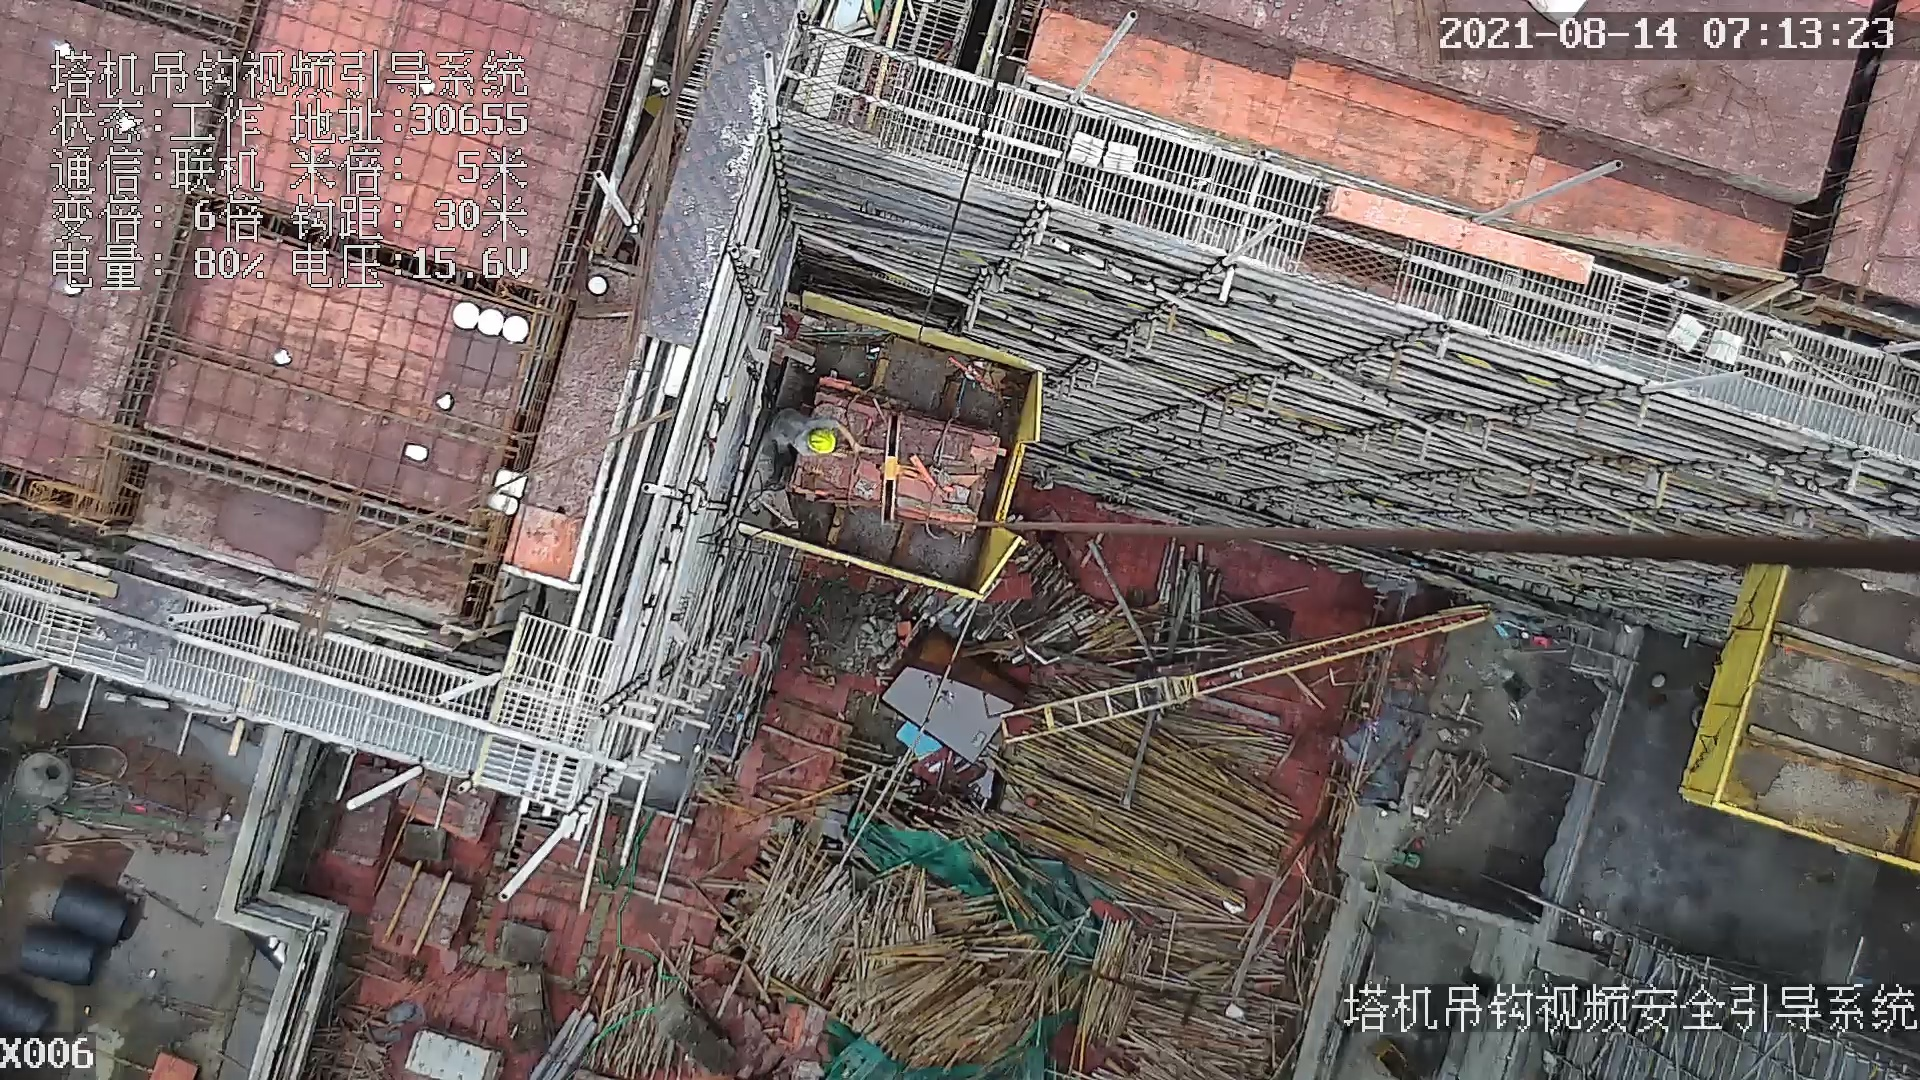helmet: (807, 426, 840, 458)
hook: (870, 412, 905, 531)
person: (762, 408, 868, 463)
